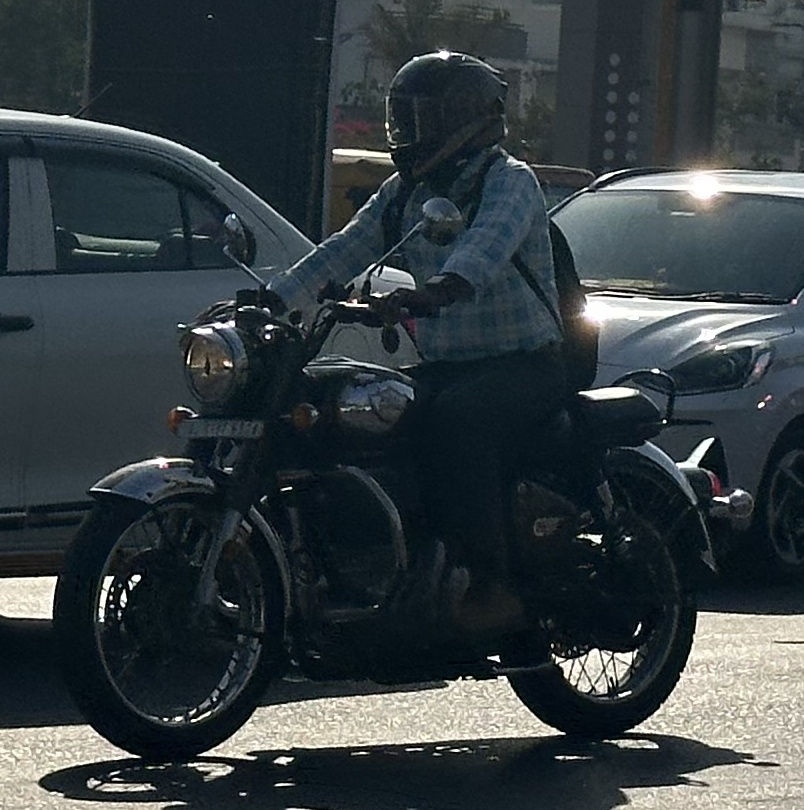BikeWithRider: (39, 39, 737, 775)
Helmet: (378, 33, 514, 200)
